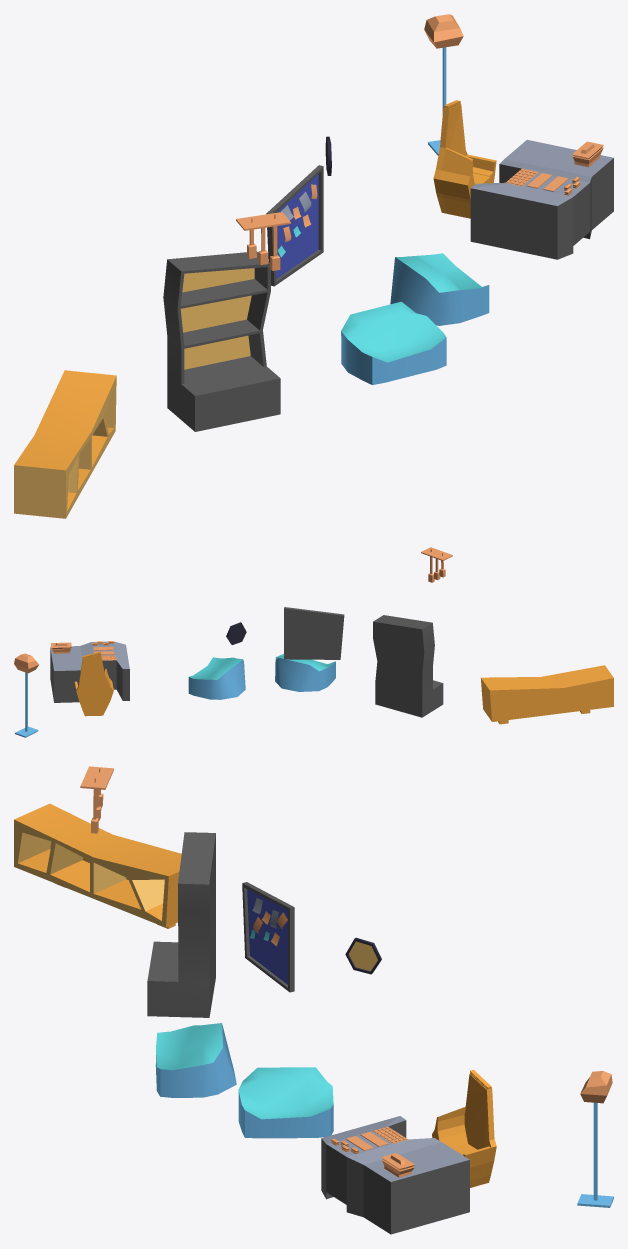
Rendered from orienntation-assets.FBX.
The picture shows the model from 3 angles, top to bottom: view 1: azimuth 30°, elevation 25°; view 2: azimuth 150°, elevation 25°; view 3: azimuth 270°, elevation 25°; orthographic projection. The views are drawn at different scales.
Parts seen in each view (by area): view 1: Group016, Desk002, Chair002, Newww002, Box005, Group014; view 2: Group016, Desk002, Newww002, Chair002, Box005; view 3: Group016, Desk002, Chair002, Newww002, Box005, Group014.
Part boxes in pixels (x1,y1,x2,y2): Group016: [14, 14, 489, 518]; Desk002: [470, 139, 613, 259]; Chair002: [433, 100, 496, 218]; Newww002: [266, 165, 323, 286]; Box005: [236, 212, 290, 270]; Group014: [277, 184, 317, 257]; Group016: [14, 615, 613, 737]; Desk002: [50, 641, 129, 702]; Newww002: [284, 607, 344, 659]; Chair002: [75, 651, 113, 716]; Box005: [421, 547, 452, 582]; Group016: [14, 803, 613, 1207]; Desk002: [321, 1116, 469, 1234]; Chair002: [432, 1069, 496, 1187]; Newww002: [242, 882, 294, 992]; Box005: [80, 766, 113, 833]; Group014: [250, 898, 287, 946].
Bounding box in the file's own units: 27.92 × 7.83 × 19.14.
